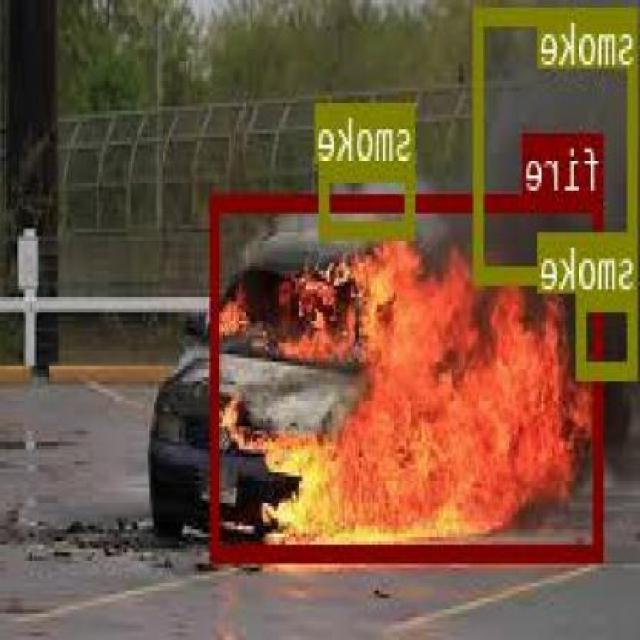Fire: (212, 191, 606, 557)
Smoke: (476, 7, 639, 280), (322, 162, 416, 232), (579, 292, 639, 376)
